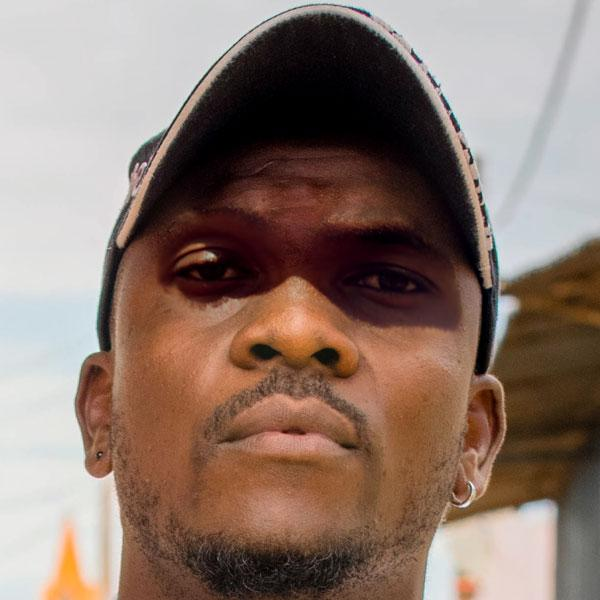Eyes: (328, 244, 442, 315), (155, 234, 262, 305)
